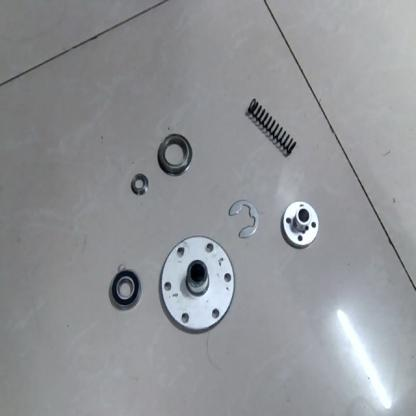FOD: (157, 230, 235, 334), (244, 96, 300, 160), (279, 198, 320, 252), (158, 131, 195, 180), (106, 263, 142, 312), (228, 198, 262, 245), (126, 172, 148, 198)
